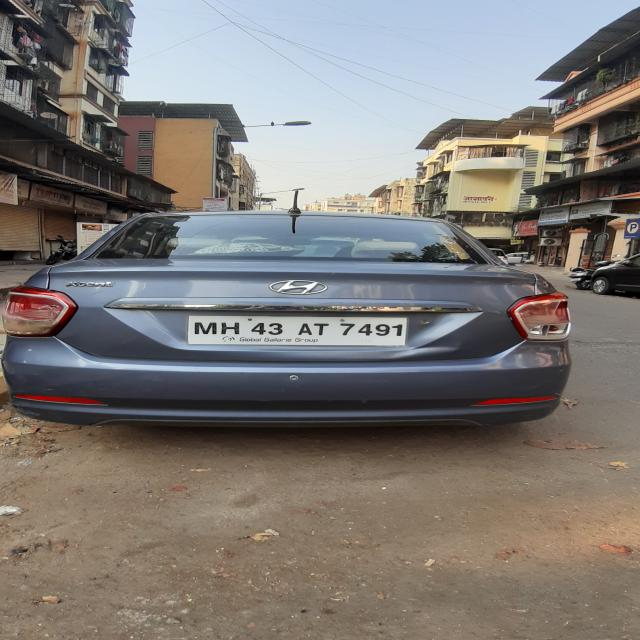Number-Plate: (186, 310, 421, 350)
